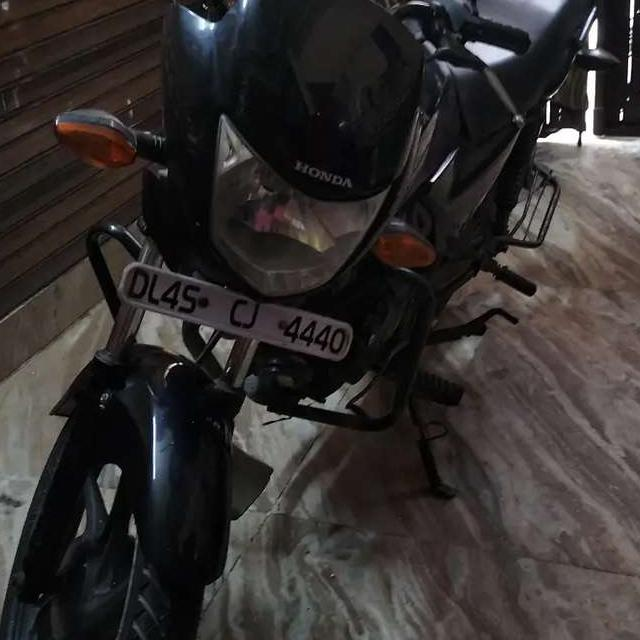Indian_Number_Plate: (121, 260, 353, 360)
